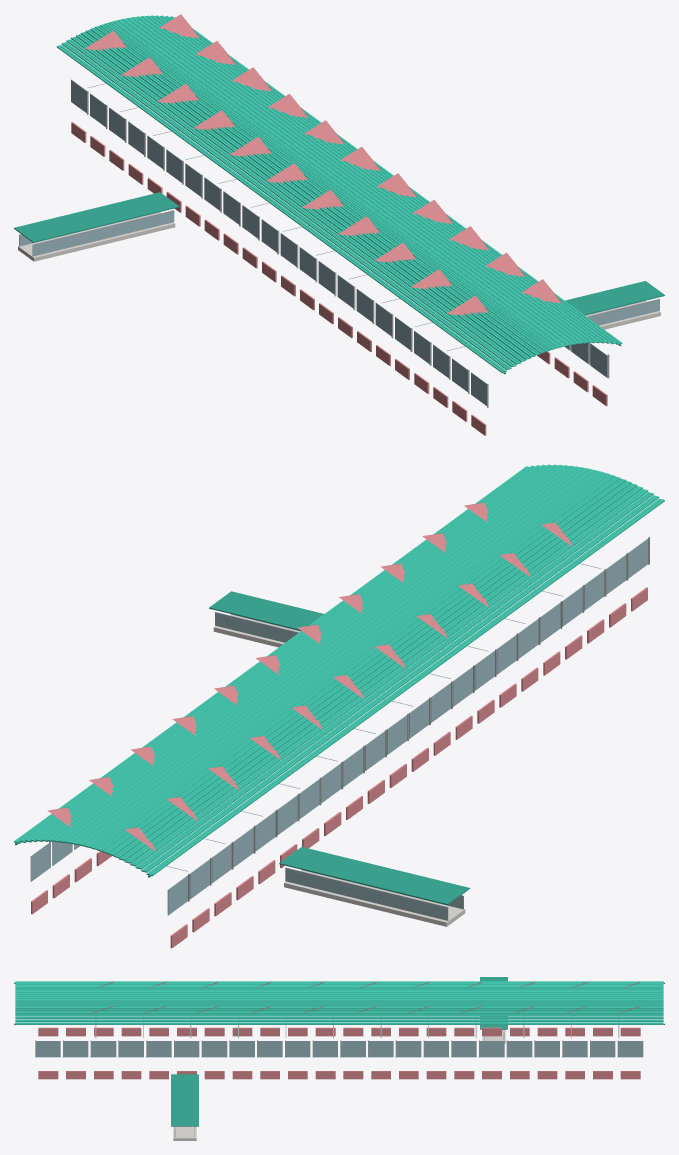
The model's file is station-9-photo-reference.glb.
3 renders of one model, top to bottom at view 1: azimuth 30°, elevation 25°; view 2: azimuth 150°, elevation 25°; view 3: azimuth 270°, elevation 25°, orthographic. The views are drawn at different scales.
Parts seen in each view (by area): view 1: Station 9 photo-informed architecture and surroundings; view 2: Station 9 photo-informed architecture and surroundings; view 3: Station 9 photo-informed architecture and surroundings.
Boxes of the visible parts, bbox=[...] form: Station 9 photo-informed architecture and surroundings: bbox=[14, 14, 664, 435]; Station 9 photo-informed architecture and surroundings: bbox=[14, 464, 664, 948]; Station 9 photo-informed architecture and surroundings: bbox=[14, 977, 664, 1140].
Bounding box in the file's own units: 89 × 21.54 × 164.
